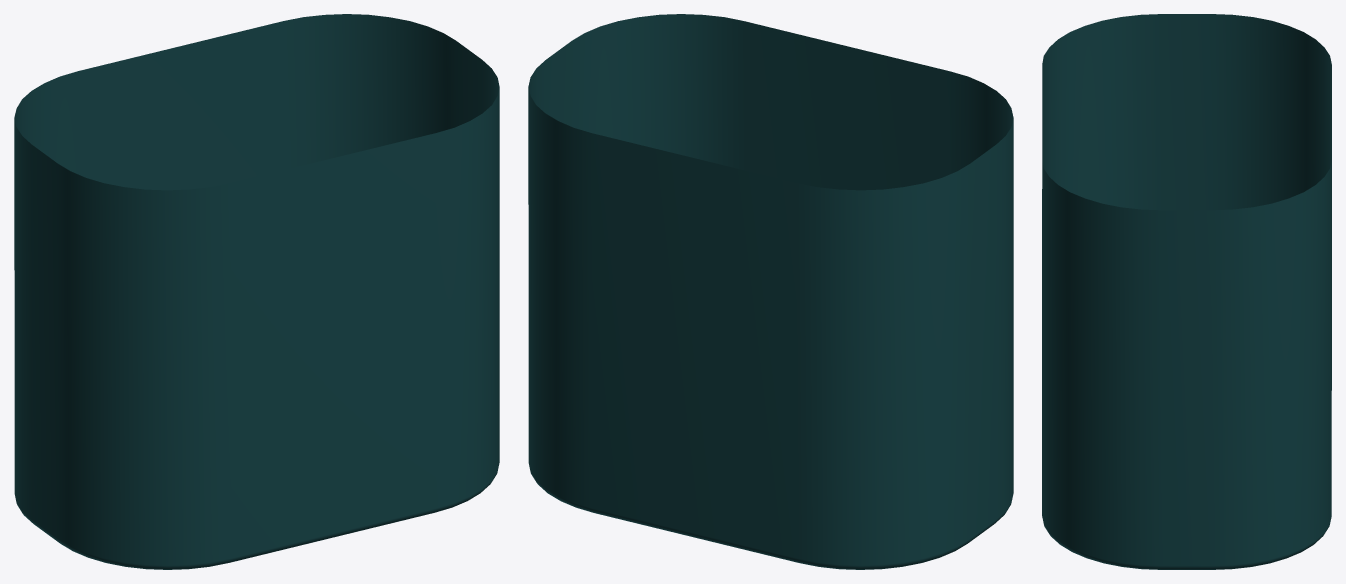
The model's file is stage.glb.
3 views of the same model, side by side, from view 1: azimuth 30°, elevation 25°; view 2: azimuth 150°, elevation 25°; view 3: azimuth 270°, elevation 25° (orthographic). The views are drawn at different scales.
Visible parts, largest first — view 1: Seamless sweep; view 2: Seamless sweep; view 3: Seamless sweep.
Boxes of the visible parts, left/top/right/bottom form: Seamless sweep: left=14, top=14, right=499, bottom=569; Seamless sweep: left=528, top=14, right=1013, bottom=569; Seamless sweep: left=1042, top=14, right=1331, bottom=569.
Bounding box in the file's own units: 186 × 160 × 116.
